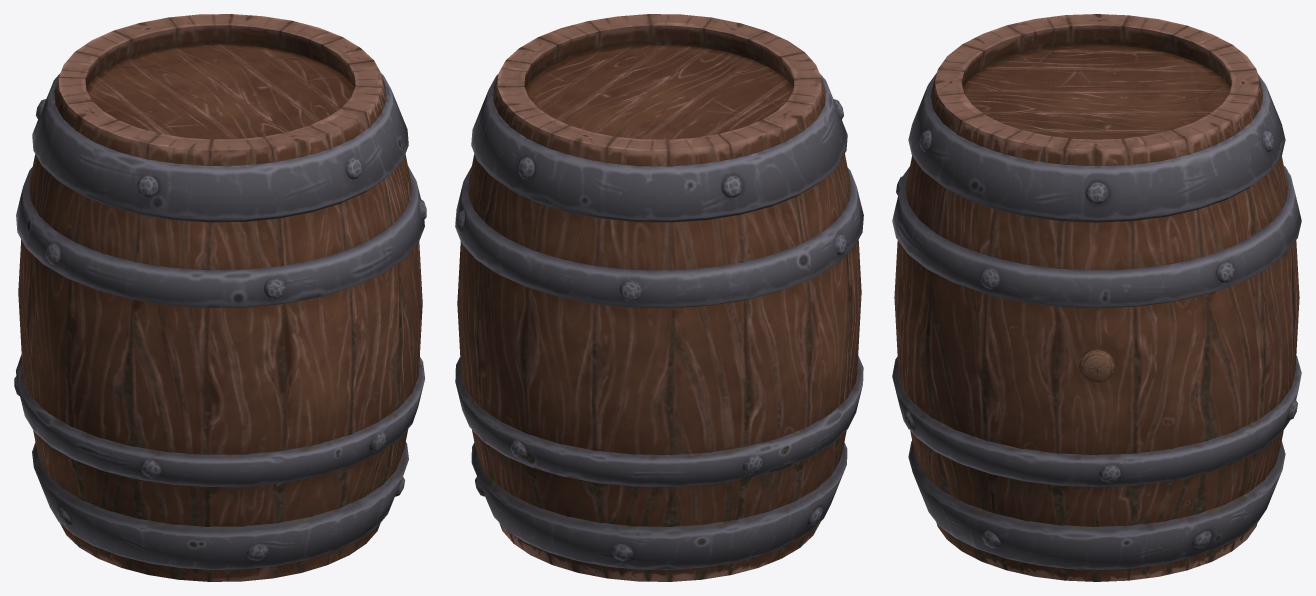
File: pirate_barrel_low.glb
The picture shows the model from 3 angles, left to right: view 1: azimuth 30°, elevation 25°; view 2: azimuth 150°, elevation 25°; view 3: azimuth 270°, elevation 25°; orthographic projection.
Parts seen in each view (by area): view 1: Base_low, Ring_low, Bolt_low; view 2: Base_low, Ring_low, Bolt_low; view 3: Base_low, Ring_low, Bolt_low, Probka_low.
Part boxes in pixels (x1=…): Base_low: x1=18, y1=14, x2=422, y2=581; Ring_low: x1=16, y1=73, x2=425, y2=569; Bolt_low: x1=14, y1=99, x2=426, y2=561; Base_low: x1=457, y1=14, x2=861, y2=581; Ring_low: x1=455, y1=74, x2=863, y2=569; Bolt_low: x1=455, y1=99, x2=846, y2=560; Base_low: x1=894, y1=14, x2=1299, y2=581; Ring_low: x1=892, y1=73, x2=1301, y2=569; Bolt_low: x1=896, y1=130, x2=1297, y2=548; Probka_low: x1=1079, y1=348, x2=1114, y2=382.
Size of the model in its own units: 2.58 by 2.93 by 2.53.
1 material, 1 textured.
